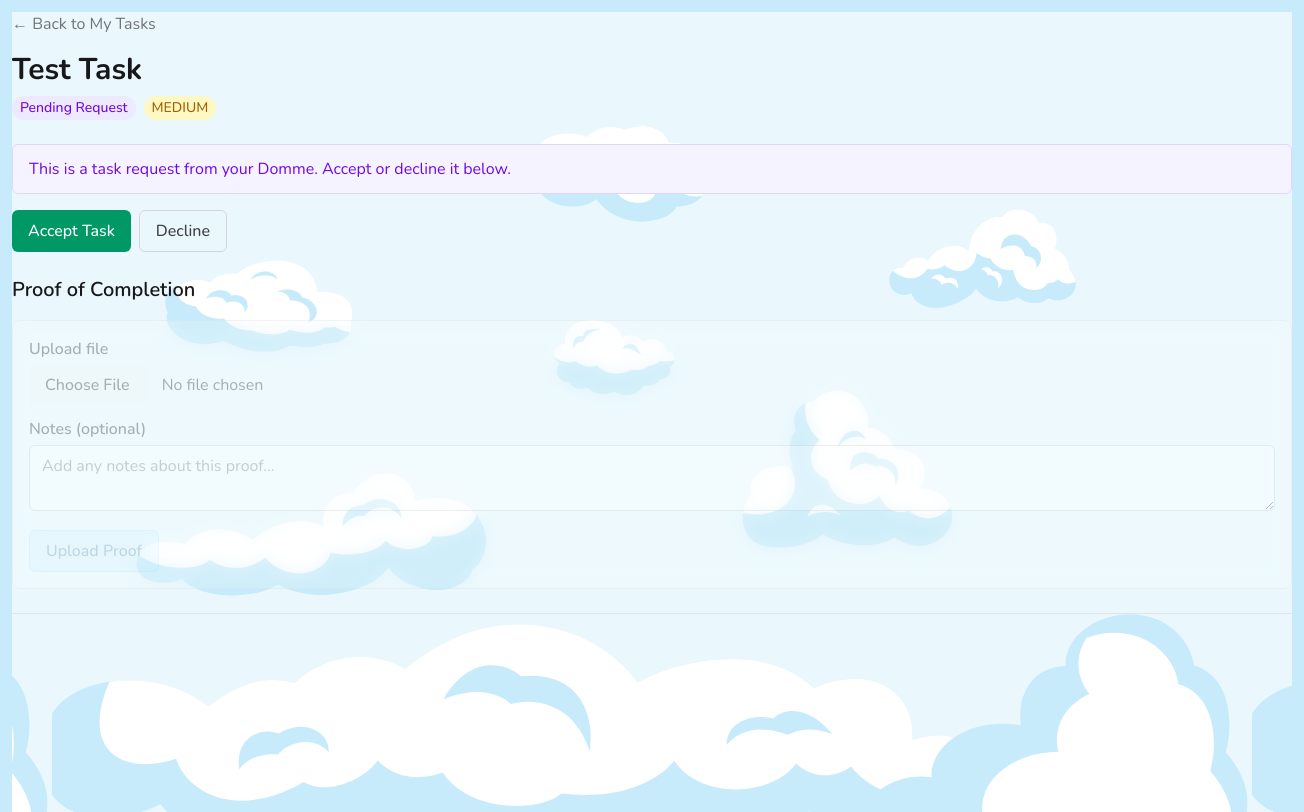
Test case: MyTaskDetailClient › shows decline form when Decline is clicked
Click the button "Decline" at (183, 231), box [139,210,227,252]
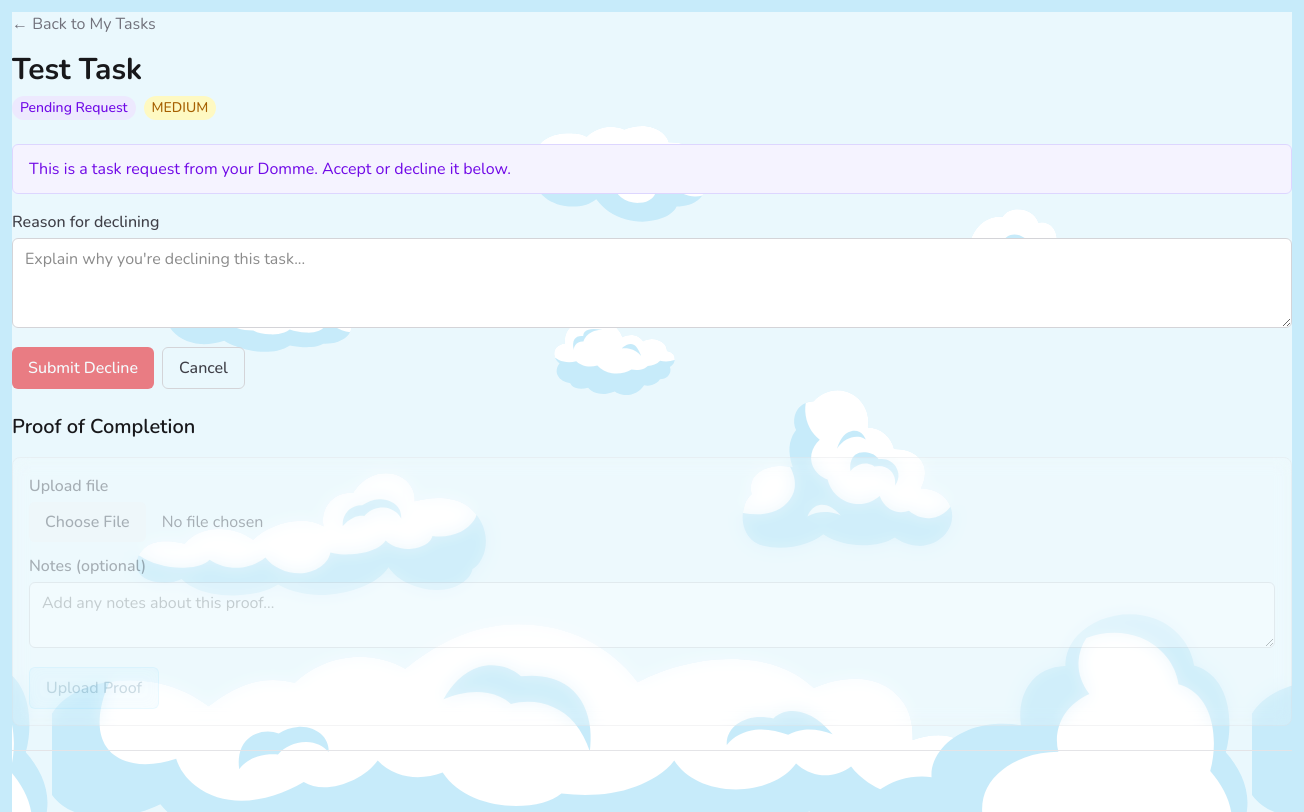
Result: the text box labelled "Reason for declining" is shown at [12,238,1292,328]
Result: the button "Submit Decline" is shown at [12,347,154,389]
Result: the button "Cancel" is shown at [162,347,245,389]
